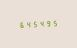five: (32, 20, 38, 28), (53, 19, 59, 26)
four: (24, 20, 30, 28), (39, 19, 45, 27)
nine: (46, 19, 52, 27)
six: (17, 21, 23, 28)
